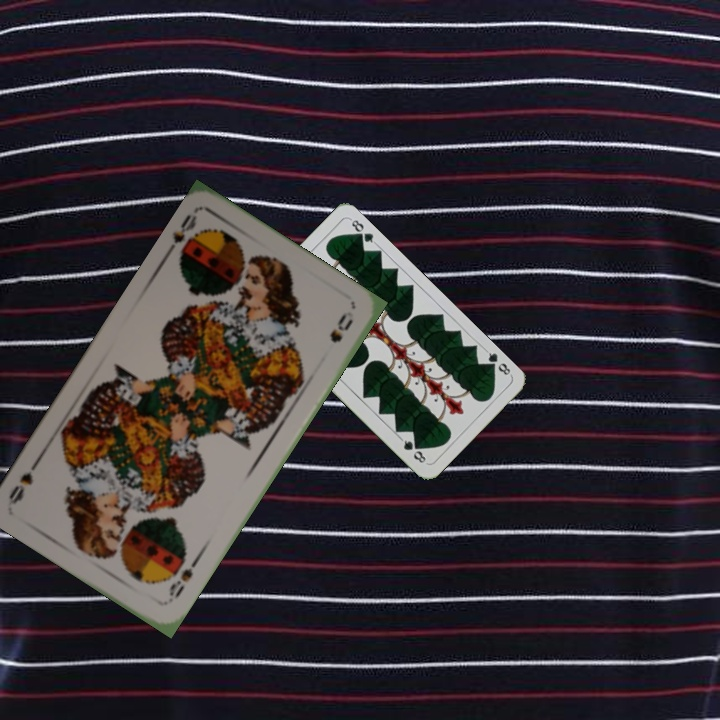G8: (481, 346, 514, 379)
SO: (161, 210, 201, 267), (161, 554, 202, 605)
